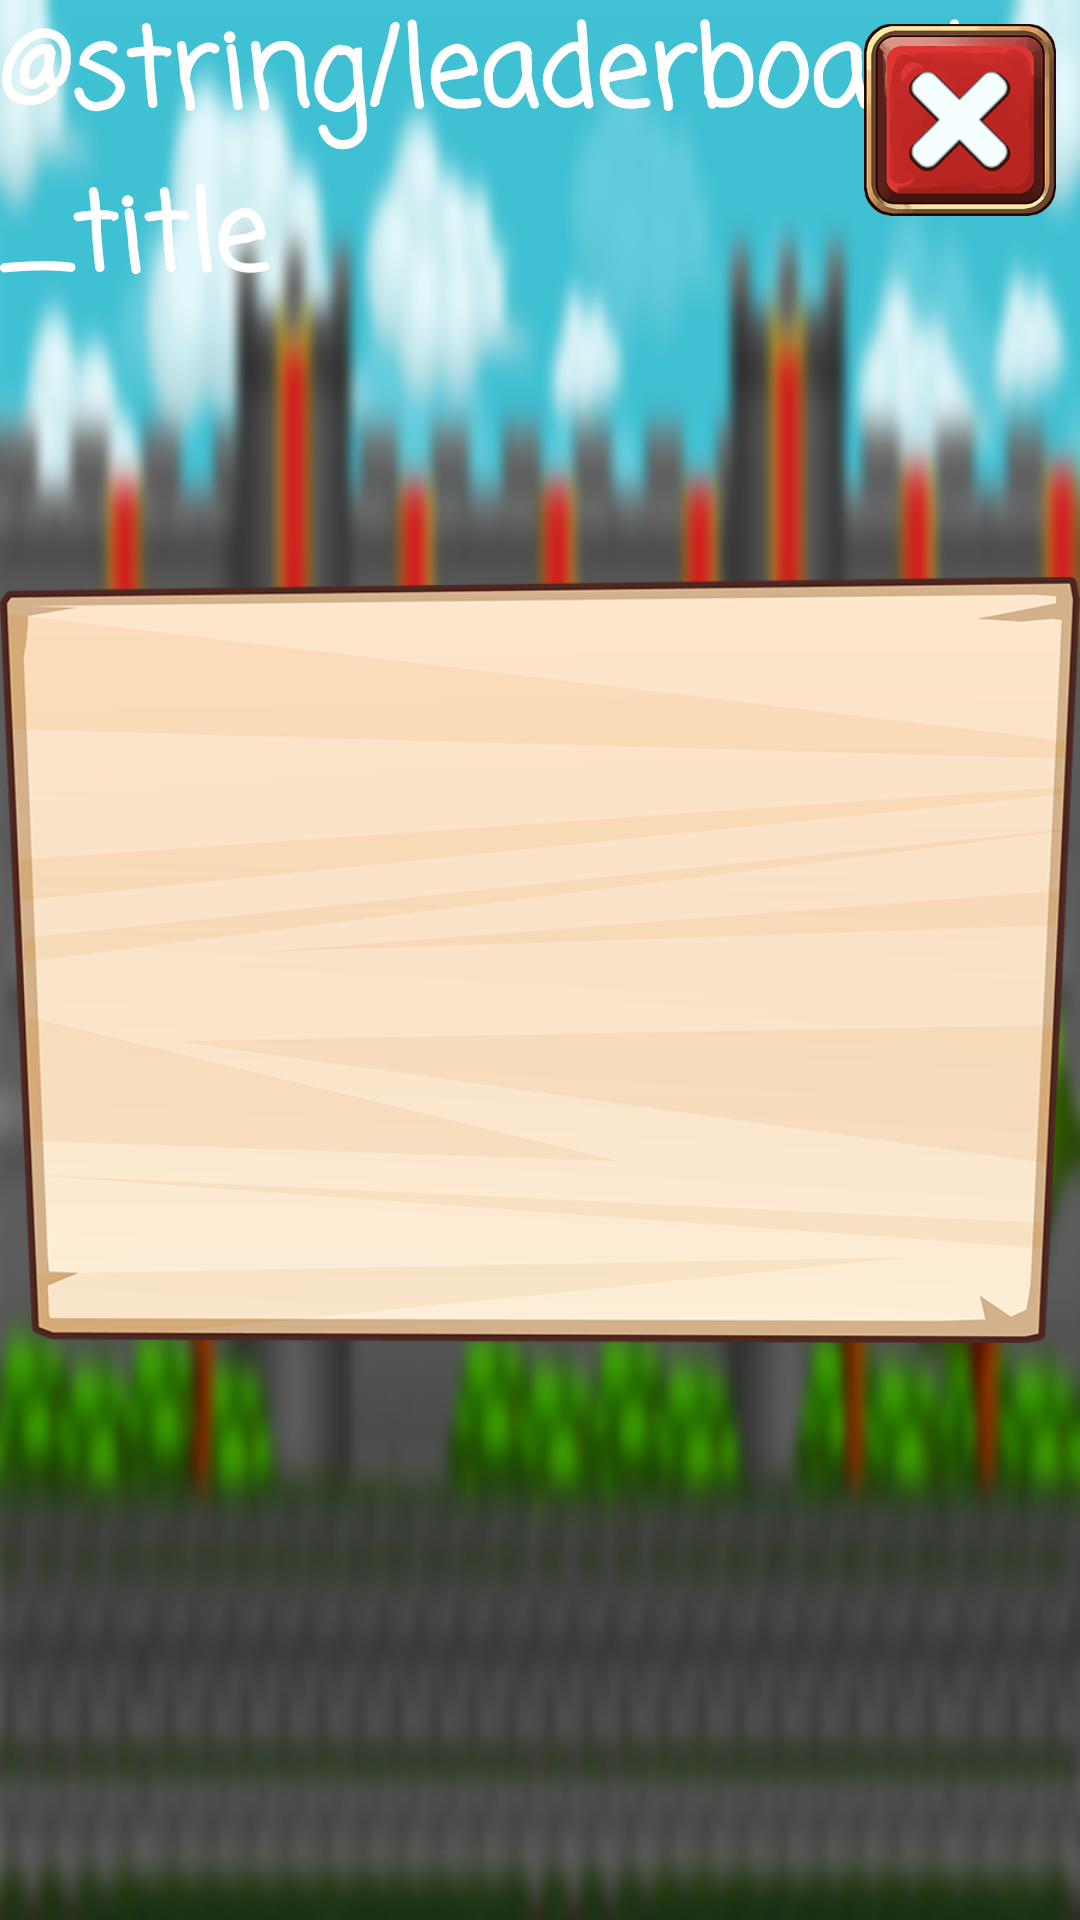

Icon bounding boxes for this 1080*1920 phone screenshot, format (x1, y1, x2, y2):
exit: (864, 24, 1056, 216)
